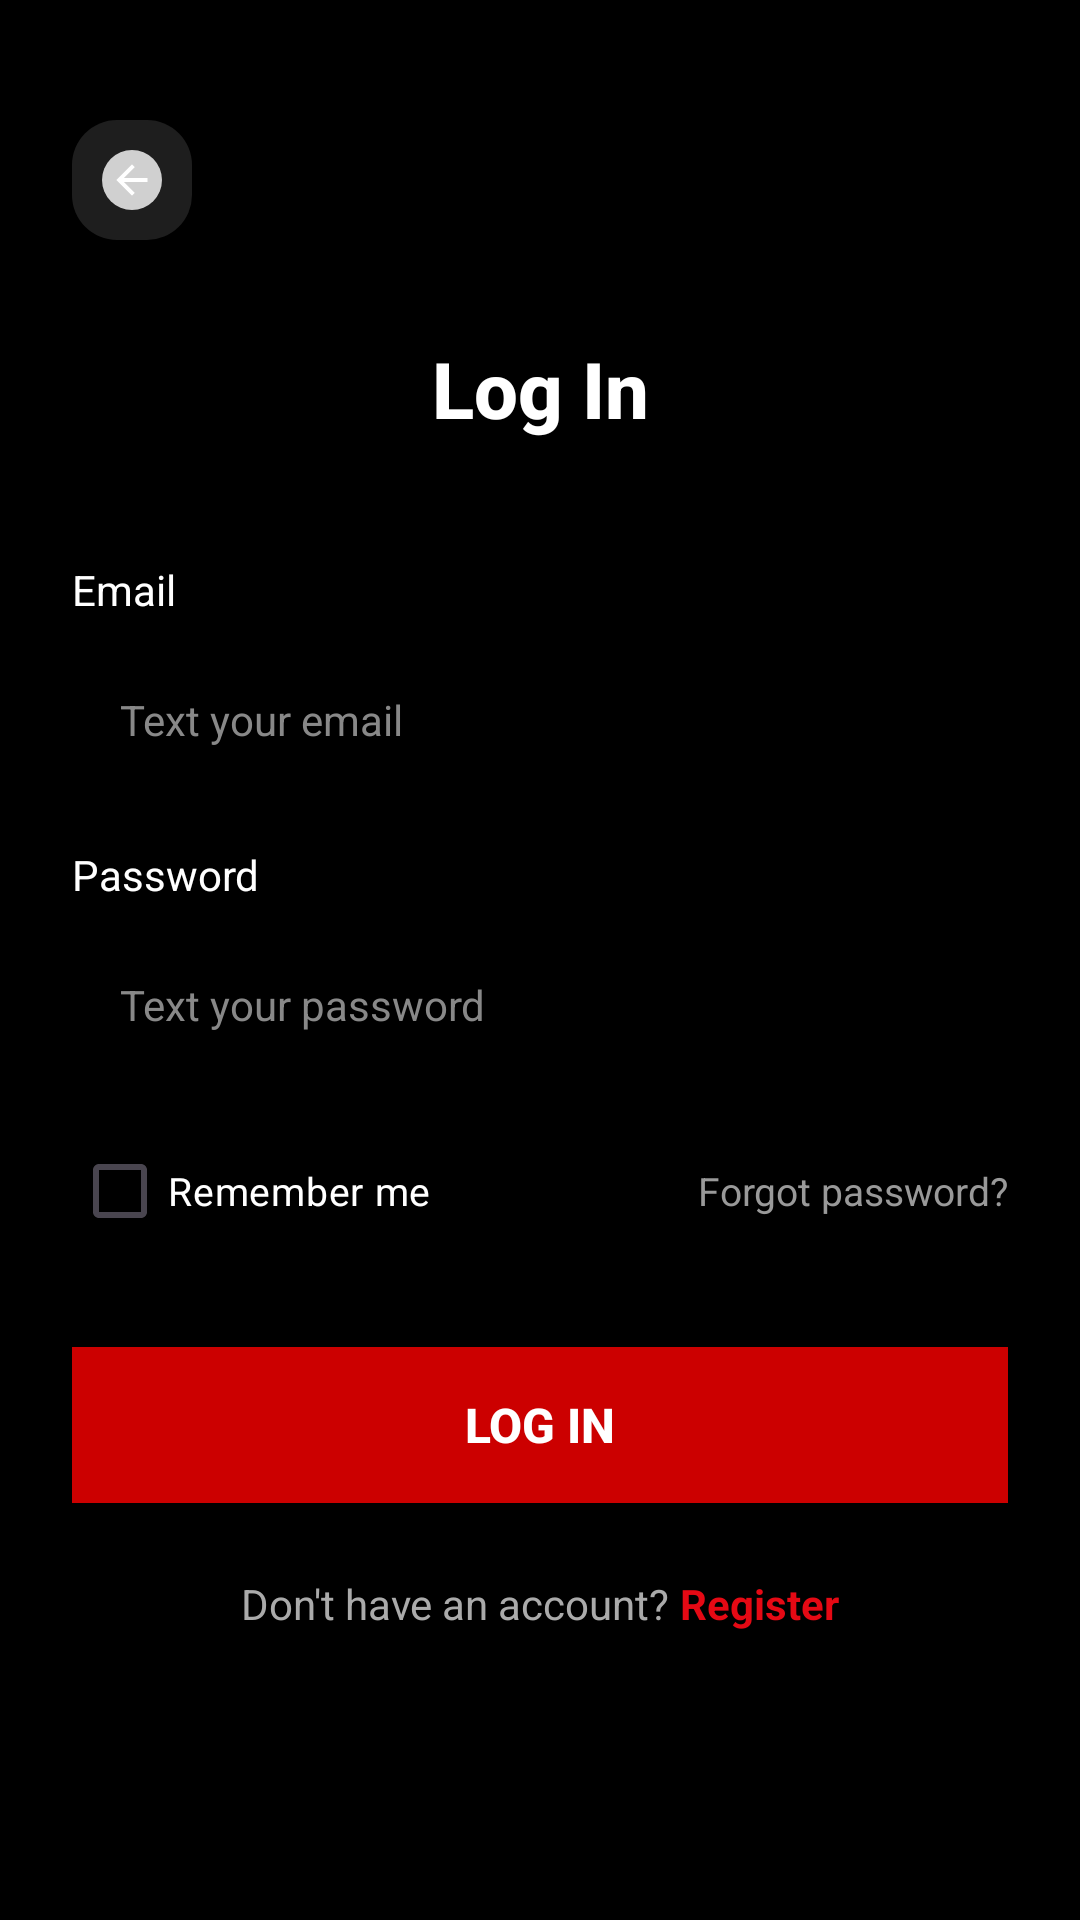

Where to tap for icons on this 1080px x 1920px app screen, as point (x, y):
Back: point (132, 180)
